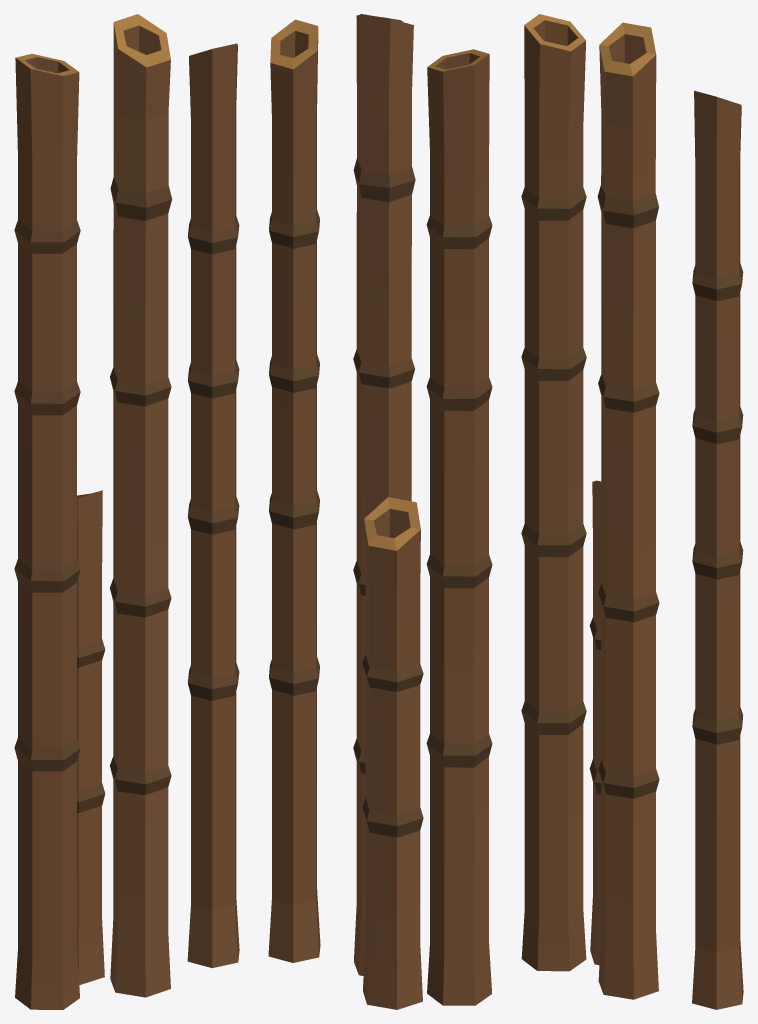
Rendered from japan_bamboo.fbx.
3 views of the same model, side by side, from view 1: azimuth 30°, elevation 25°; view 2: azimuth 150°, elevation 25°; view 3: azimuth 330°, elevation 25° (orthographic).
Visible parts, largest first — view 1: japan_bamboo; view 2: japan_bamboo; view 3: japan_bamboo.
Part boxes in pixels (x1,y1,x2,y2): japan_bamboo: (14,14,239,1009); japan_bamboo: (268,14,492,1009); japan_bamboo: (521,14,743,1009).
Bounding box in the file's own units: 47.09 × 200 × 22.57.
